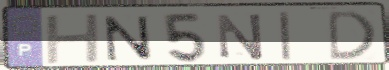5: (159, 11, 210, 65)
D: (327, 9, 378, 63)
H: (43, 12, 104, 67)
I: (277, 10, 294, 63)
N: (101, 15, 157, 63), (214, 12, 266, 62)
